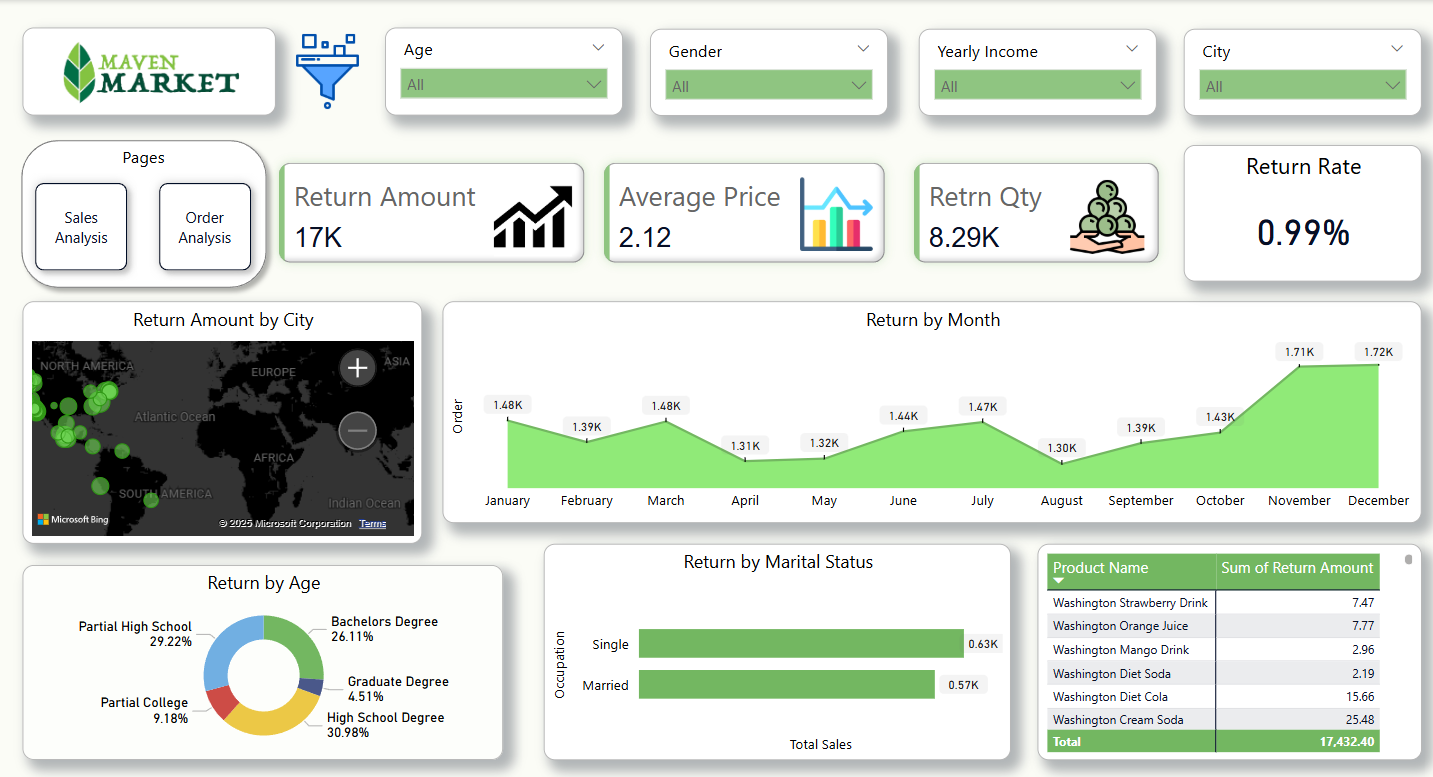

Layout of this report page (visuals, bound fields, positions):
{"tool":"powerbi","page":{"name":"Return Analysis","canvas":[1280,720],"ordinal":2},"visuals":[{"type":"areaChart","title":"Return by Month","fields":{"Y":["Sum(MavenMarket_Returns_1997-1998.Return Amount)"],"Category":["MavenMarket_Returns_1997-1998.return_date.Variation.Date Hierarchy.Month"]},"box":[394.5,267.8,872.3,197.9],"z":0},{"type":"map","title":"Return Amount by City","fields":{"Category":["MavenMarket_Returns_1997-1998.City"],"Size":["Sum(MavenMarket_Returns_1997-1998.Return Amount)"]},"box":[20.5,267.8,355.9,216],"z":1000},{"type":"barChart","title":"Return by Marital Status","fields":{"Category":["MavenMarket_Customers.marital_status"],"Y":["Sum(MavenMarket_Returns_1997-1998.quantity)"]},"box":[483.8,483.8,416.2,193],"z":2000},{"type":"donutChart","title":"Return by Age ","fields":{"Series":["MavenMarket_Customers.education"],"Y":["Sum(MavenMarket_Returns_1997-1998.quantity)"]},"box":[20.5,503.1,428.3,173.7],"z":3000},{"type":"card","title":"Return Rate","fields":{"Values":["MavenMarket_Returns_1997-1998.Return Rate"]},"box":[1054.4,129.1,212.3,121.9],"z":4000},{"type":"image","box":[20.5,24.1,225.6,78.4],"z":5000},{"type":"image","box":[214.7,24.1,153.2,78.4],"z":6000},{"type":"slicer","fields":{"Values":["MavenMarket_Customers.Age"]},"box":[342.6,24.1,212.3,78.4],"z":7000},{"type":"slicer","fields":{"Values":["MavenMarket_Customers.gender"]},"box":[579.1,25.3,212.3,77.2],"z":8000},{"type":"slicer","fields":{"Values":["MavenMarket_Customers.customer_city"]},"box":[1054.4,25.3,212.3,77.2],"z":9000},{"type":"slicer","fields":{"Values":["MavenMarket_Customers.yearly_income"]},"box":[818,25.3,212.3,77.2],"z":10000},{"type":"cardVisual","fields":{"Data":["MavenMarket_Returns_1997-1998.Sum of Return Amount"]},"box":[232.8,129.1,304,121.9],"z":11000},{"type":"cardVisual","fields":{"Data":["Sum(MavenMarket_Returns_1997-1998.quantity)"]},"box":[798.7,129.1,250.9,121.9],"z":12000},{"type":"cardVisual","fields":{"Data":["Avg(MavenMarket_Products.product_retail_price)"]},"box":[522.4,129.1,282.3,121.9],"z":13000},{"type":"shape","box":[9.7,115.8,236.5,149.6],"z":14000},{"type":"pivotTable","fields":{"Rows":["MavenMarket_Products.product_name"],"Values":["Sum(MavenMarket_Returns_1997-1998.Return Amount)"]},"box":[924.1,483.8,342.6,193],"z":15000},{"type":"pageNavigator","title":"Pages","box":[21.7,129.1,211.1,121.9],"z":16000}]}

Visuals, with their boxes on the page's 1280x720 design canvas (x1, y1, x2, y2). These are canvas units, not pixel positions in the 1433x777 screenshot, which may show the page scaled, cropped or inside an application window:
"Return by Month" areaChart: (x1=394, y1=268, x2=1267, y2=466)
"Return Amount by City" map: (x1=20, y1=268, x2=376, y2=484)
"Return by Marital Status" barChart: (x1=484, y1=484, x2=900, y2=677)
"Return by Age " donutChart: (x1=20, y1=503, x2=449, y2=677)
"Return Rate" card: (x1=1054, y1=129, x2=1267, y2=251)
image: (x1=20, y1=24, x2=246, y2=102)
image: (x1=215, y1=24, x2=368, y2=102)
slicer - MavenMarket_Customers.Age: (x1=343, y1=24, x2=555, y2=102)
slicer - MavenMarket_Customers.gender: (x1=579, y1=25, x2=791, y2=102)
slicer - MavenMarket_Customers.customer_city: (x1=1054, y1=25, x2=1267, y2=102)
slicer - MavenMarket_Customers.yearly_income: (x1=818, y1=25, x2=1030, y2=102)
cardVisual - MavenMarket_Returns_1997-1998.Sum of Return Amount: (x1=233, y1=129, x2=537, y2=251)
cardVisual - Sum(MavenMarket_Returns_1997-1998.quantity): (x1=799, y1=129, x2=1050, y2=251)
cardVisual - Avg(MavenMarket_Products.product_retail_price): (x1=522, y1=129, x2=805, y2=251)
shape: (x1=10, y1=116, x2=246, y2=265)
pivotTable - MavenMarket_Products.product_name x Sum(MavenMarket_Returns_1997-1998.Return Amount): (x1=924, y1=484, x2=1267, y2=677)
"Pages" pageNavigator: (x1=22, y1=129, x2=233, y2=251)
